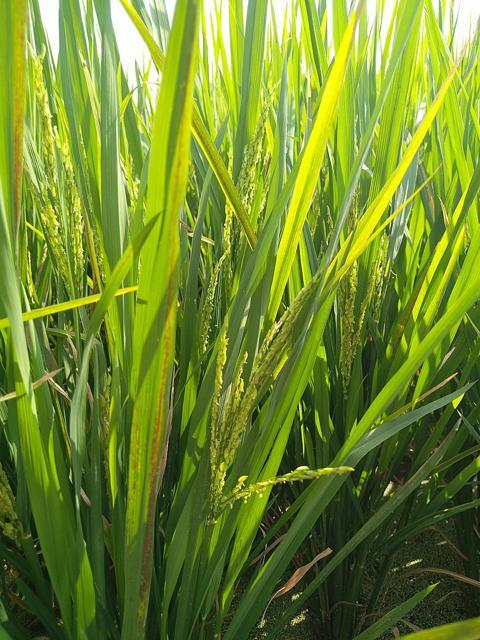Leaf Streak: (140, 304, 172, 605), (164, 36, 197, 290), (196, 120, 256, 249), (13, 0, 25, 220), (125, 425, 145, 531)
